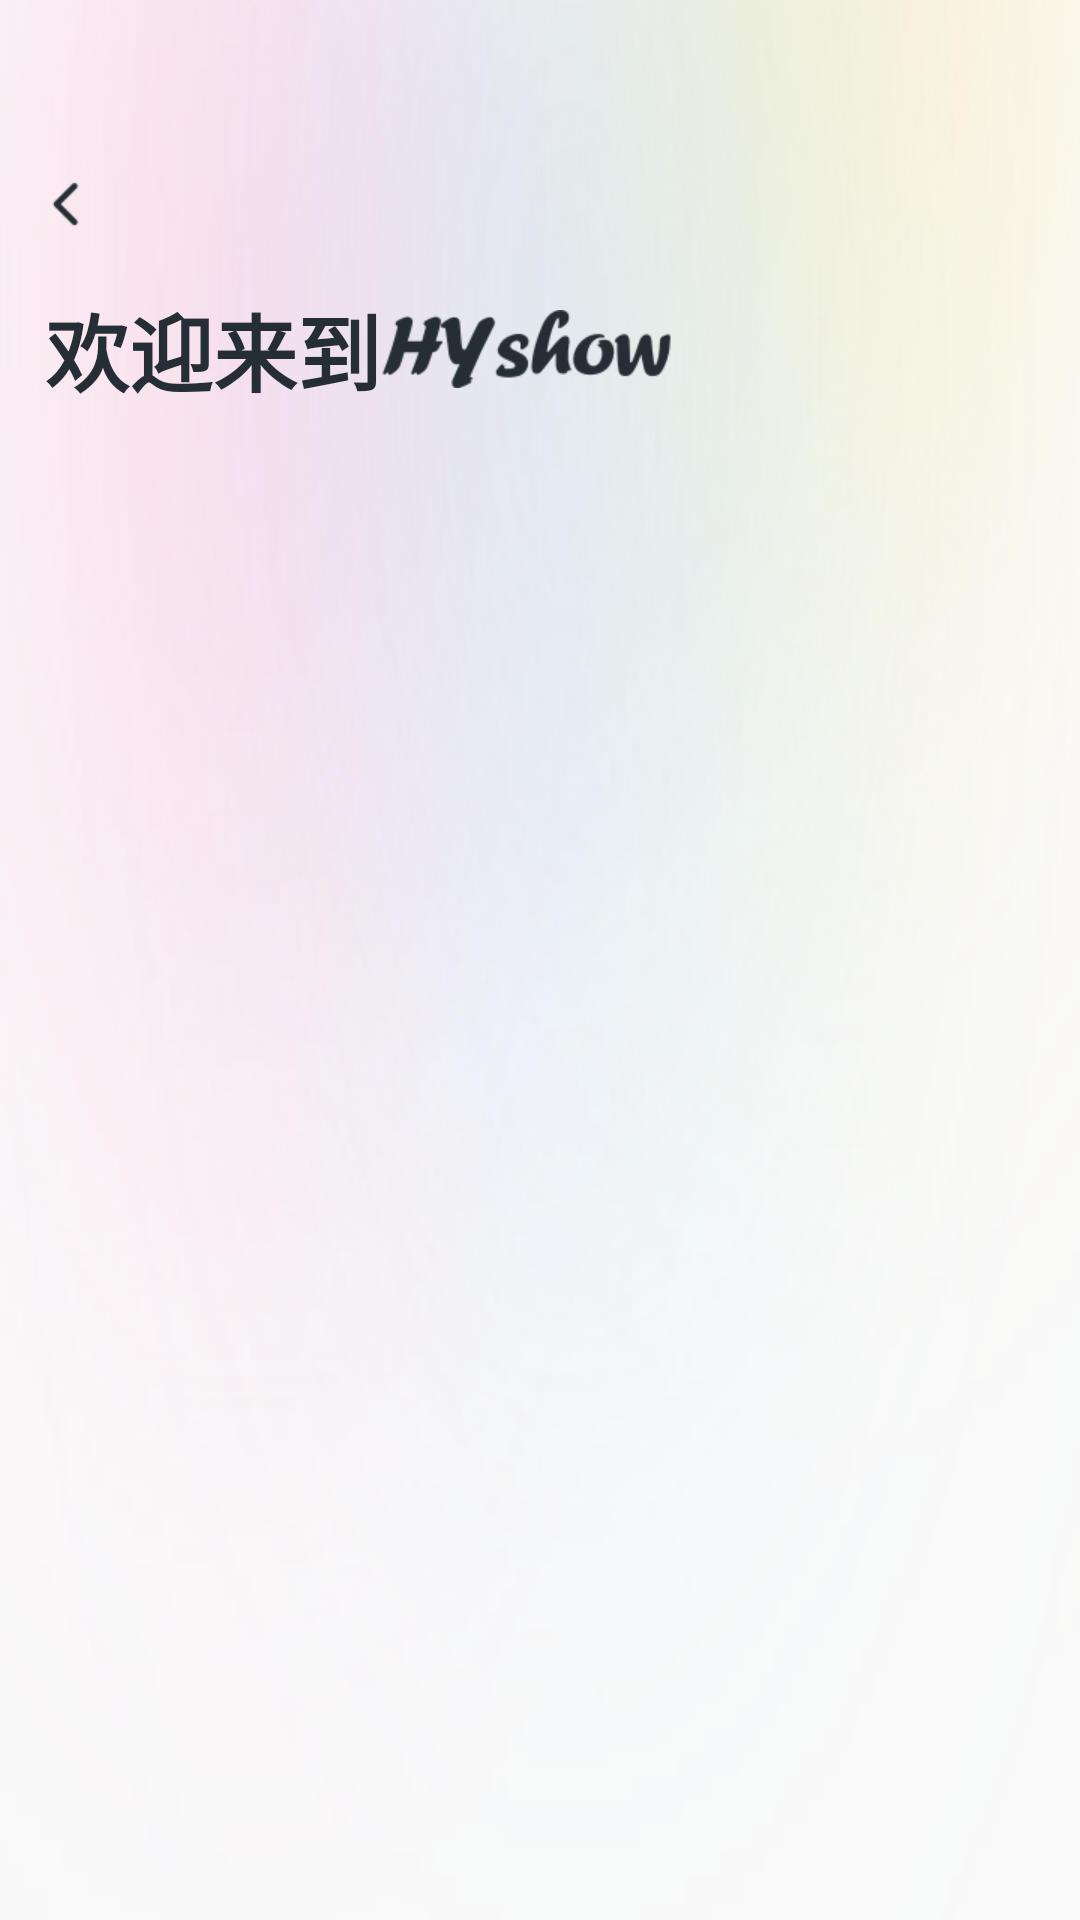

Named icons in this screenshot (1080x1920) and their bounding boxes, (x1, y1, x2, y2):
back: (53, 182, 78, 226)
